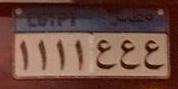1: (37, 39, 50, 73), (55, 39, 68, 71), (19, 39, 30, 72), (75, 39, 85, 70)
ain: (118, 39, 141, 72), (95, 37, 116, 72), (143, 39, 164, 72)
